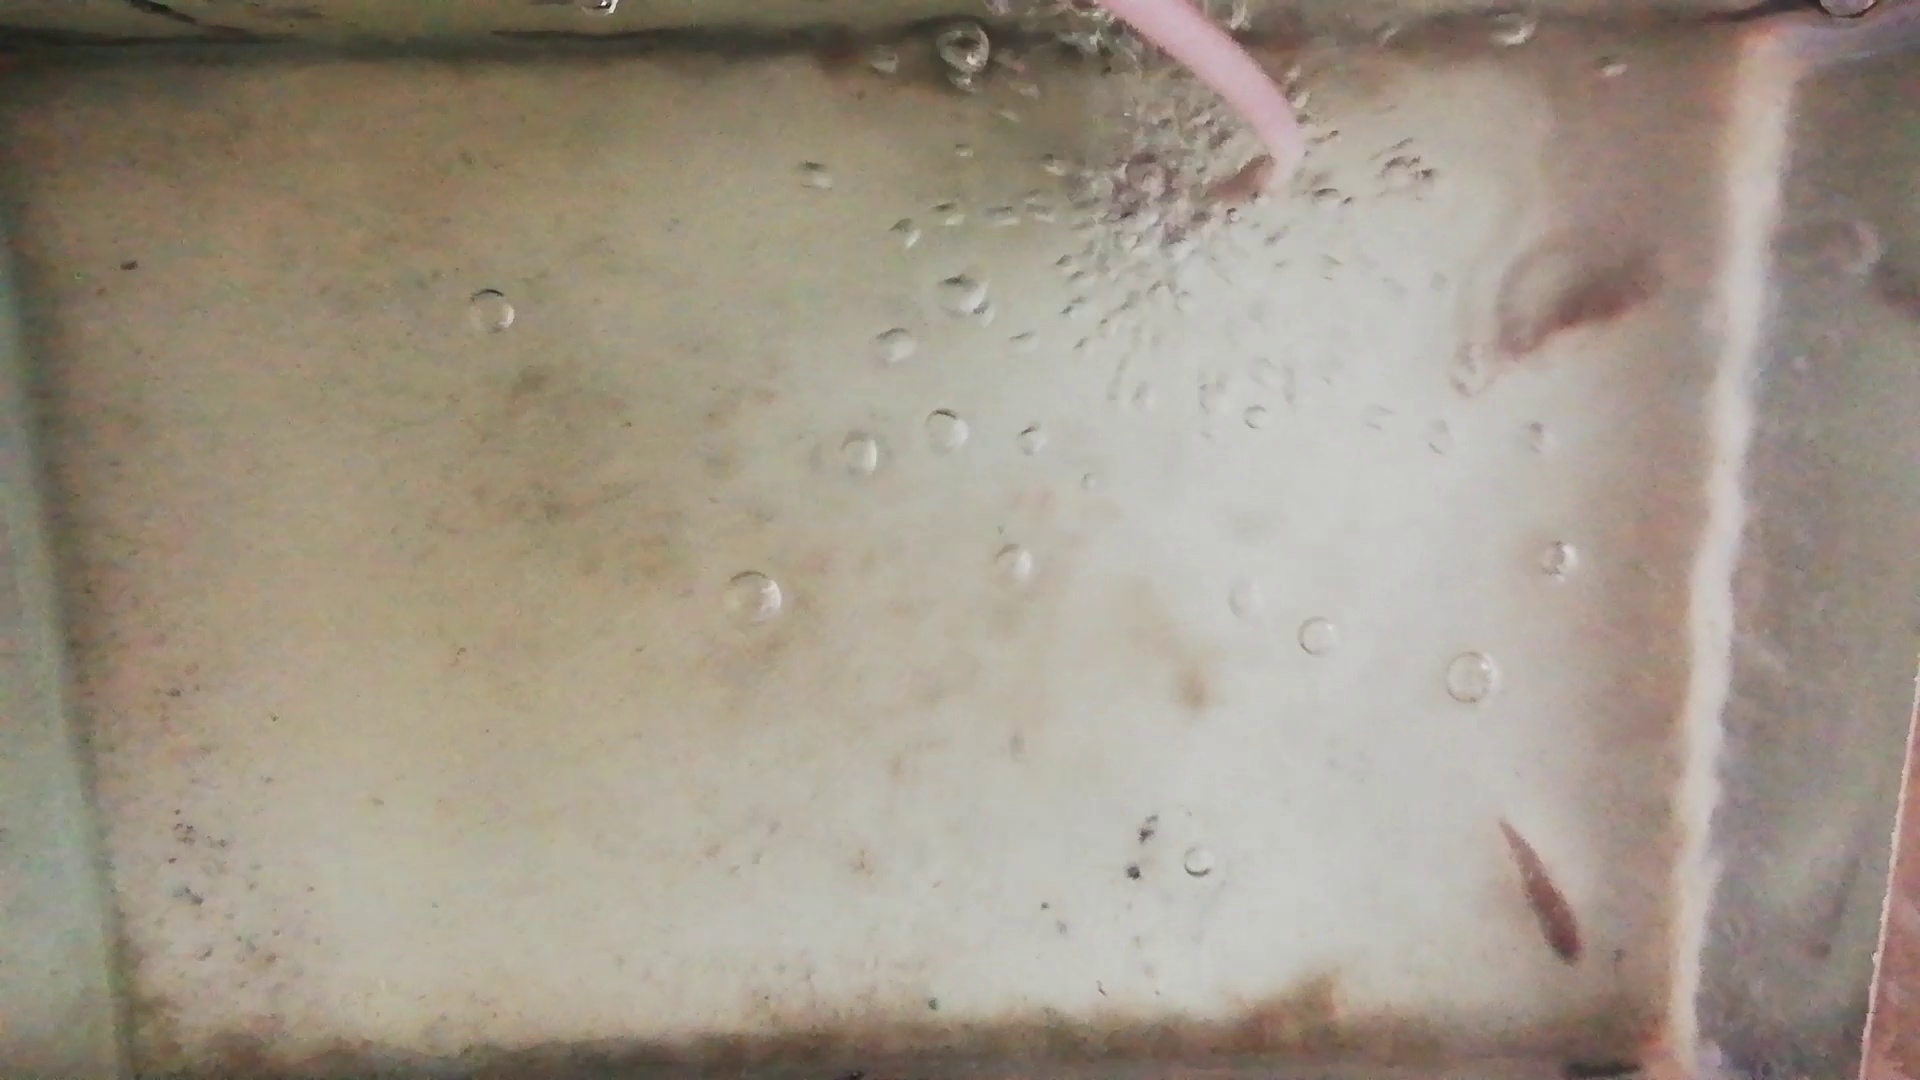fish: (1495, 248, 1668, 353), (1497, 811, 1589, 967)
